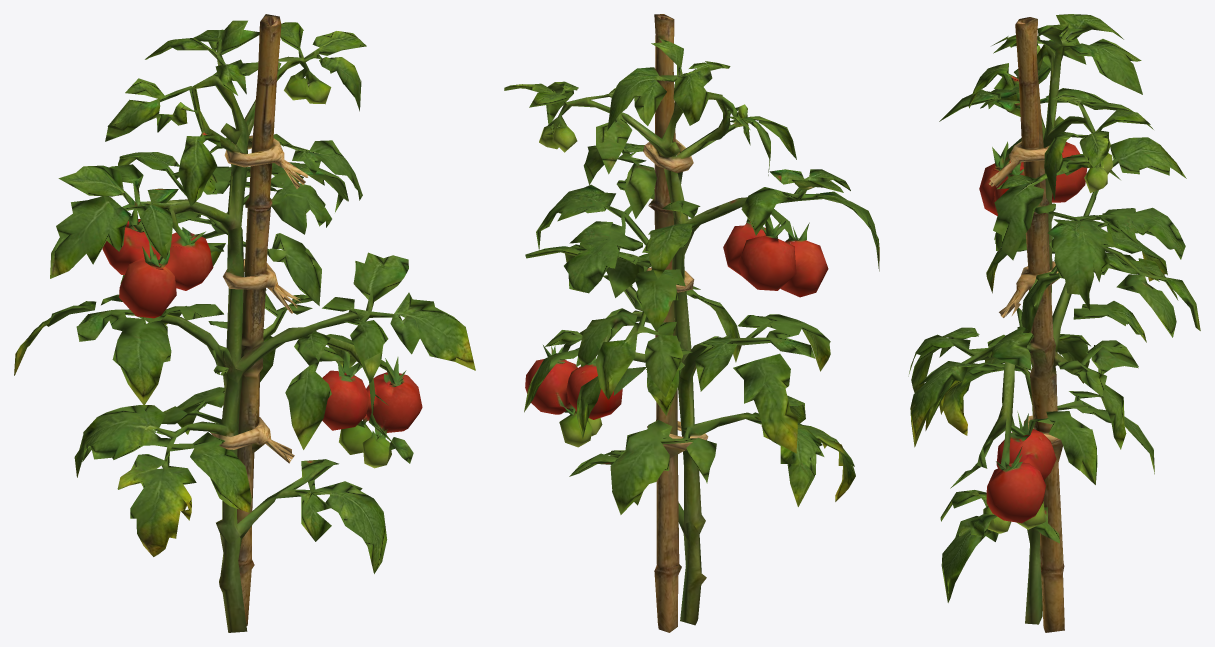
Rendered from tomato.glb.
3 renders of one model, left to right at view 1: azimuth 30°, elevation 25°; view 2: azimuth 150°, elevation 25°; view 3: azimuth 270°, elevation 25°, orthographic. The views are drawn at different scales.
Visible parts, largest first — view 1: tomato plant 3d model; view 2: tomato plant 3d model; view 3: tomato plant 3d model.
Part boxes in pixels (x1=…): tomato plant 3d model: x1=14, y1=14, x2=475, y2=632; tomato plant 3d model: x1=504, y1=14, x2=879, y2=632; tomato plant 3d model: x1=908, y1=14, x2=1200, y2=632.
Size of the model in its own units: 0.7619 by 1.2 by 0.5123.
1 material, 1 textured.
